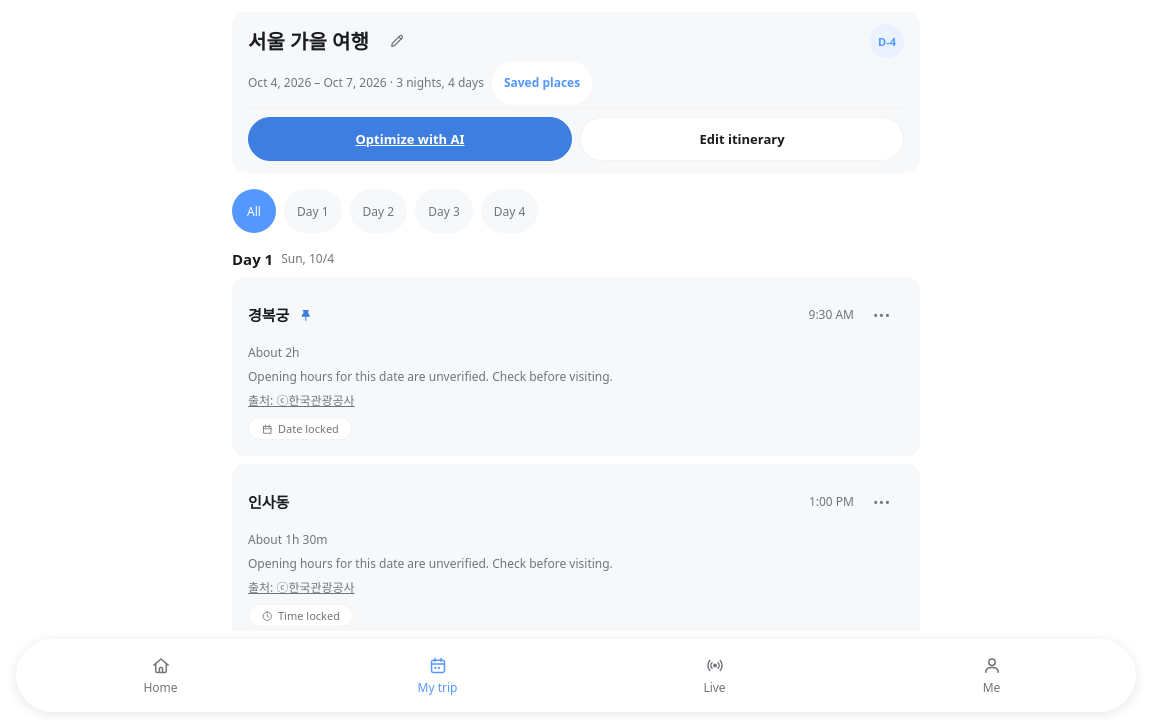
Scenario: FE-304-T2 the locks an item carries are shown › shows each lock with a name, not an icon alone
Expected: the heading "경복궁" is shown, x1=248 y1=305 x2=289 y2=325
Click the button "•••" next to "9:30 AM".
click(882, 315)  # box x1=860 y1=293 x2=904 y2=337
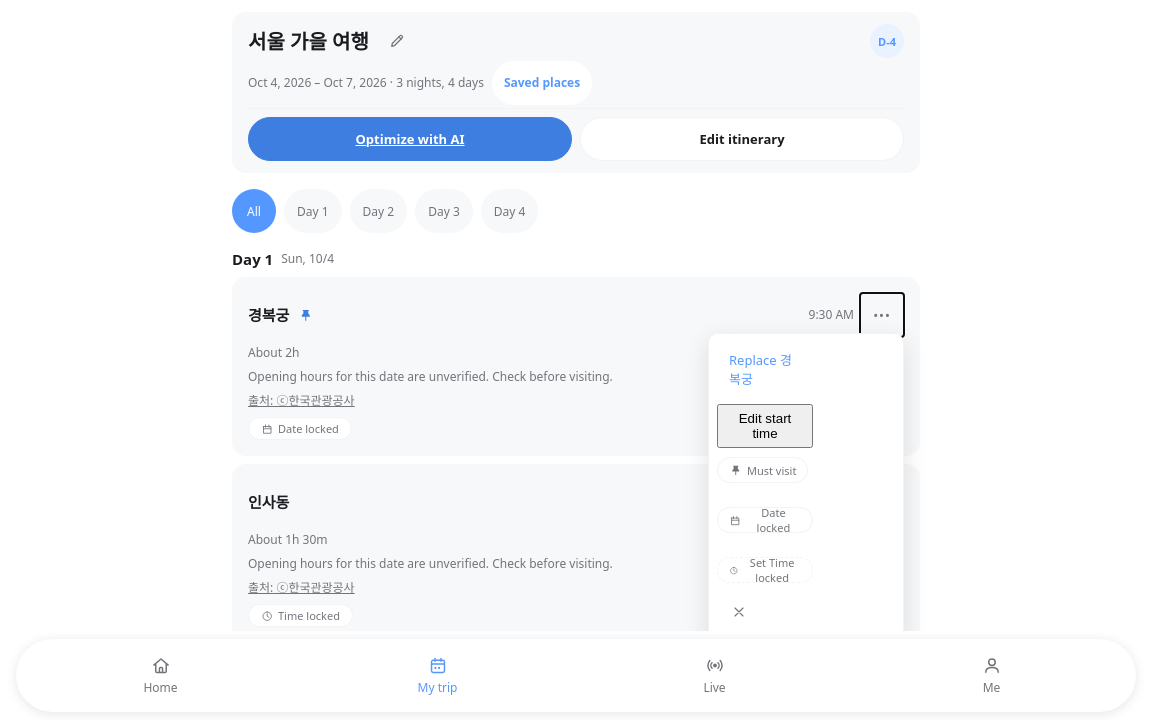
Now the button "Date locked" is shown, box x1=717 y1=498 x2=813 y2=542
